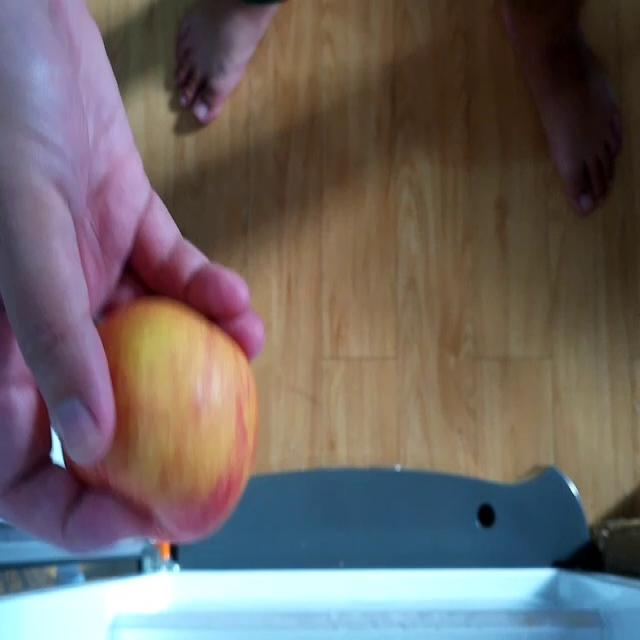apple: (57, 298, 255, 544)
